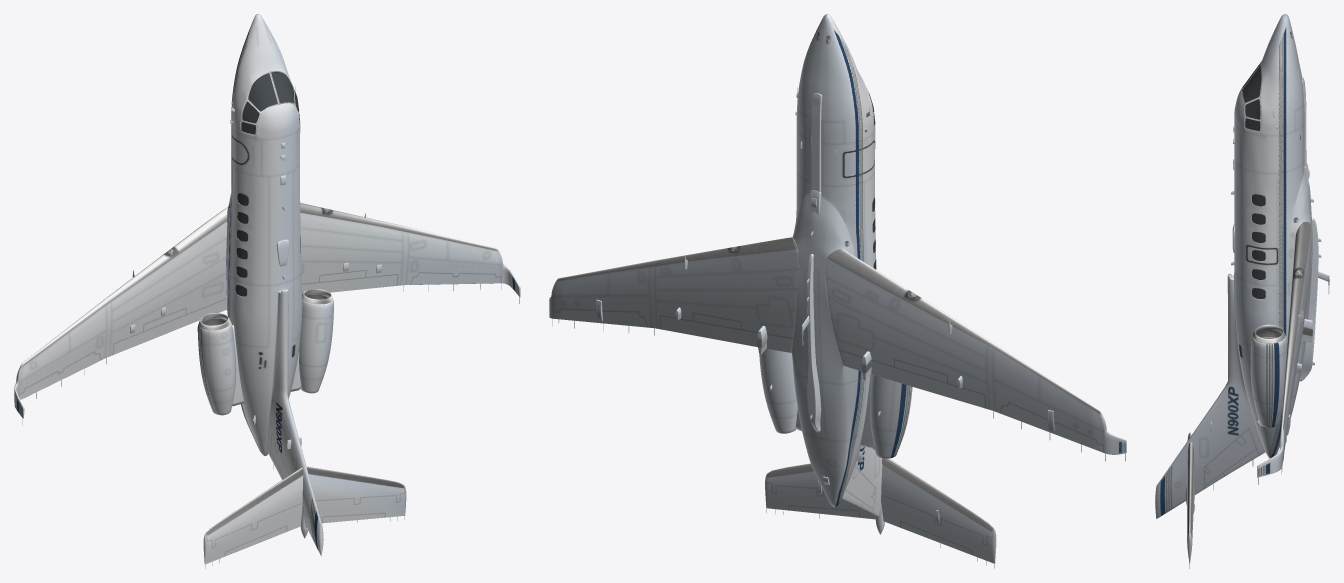
Rendered from airplane.gltf.
3 views of the same model, side by side, from view 1: azimuth 30°, elevation 25°; view 2: azimuth 150°, elevation 25°; view 3: azimuth 270°, elevation 25° (orthographic). The views are drawn at different scales.
Visible parts, largest first — view 1: 11805_airplane_v2_L2; view 2: 11805_airplane_v2_L2; view 3: 11805_airplane_v2_L2.
Boxes of the visible parts, x1,y1,x2,y2 form: 11805_airplane_v2_L2: [14, 14, 520, 568]; 11805_airplane_v2_L2: [549, 14, 1126, 568]; 11805_airplane_v2_L2: [1155, 14, 1329, 568].
Bounding box in the file's own units: 7.88 × 7.51 × 2.35.
Materials: 2 (2 with a texture image).
